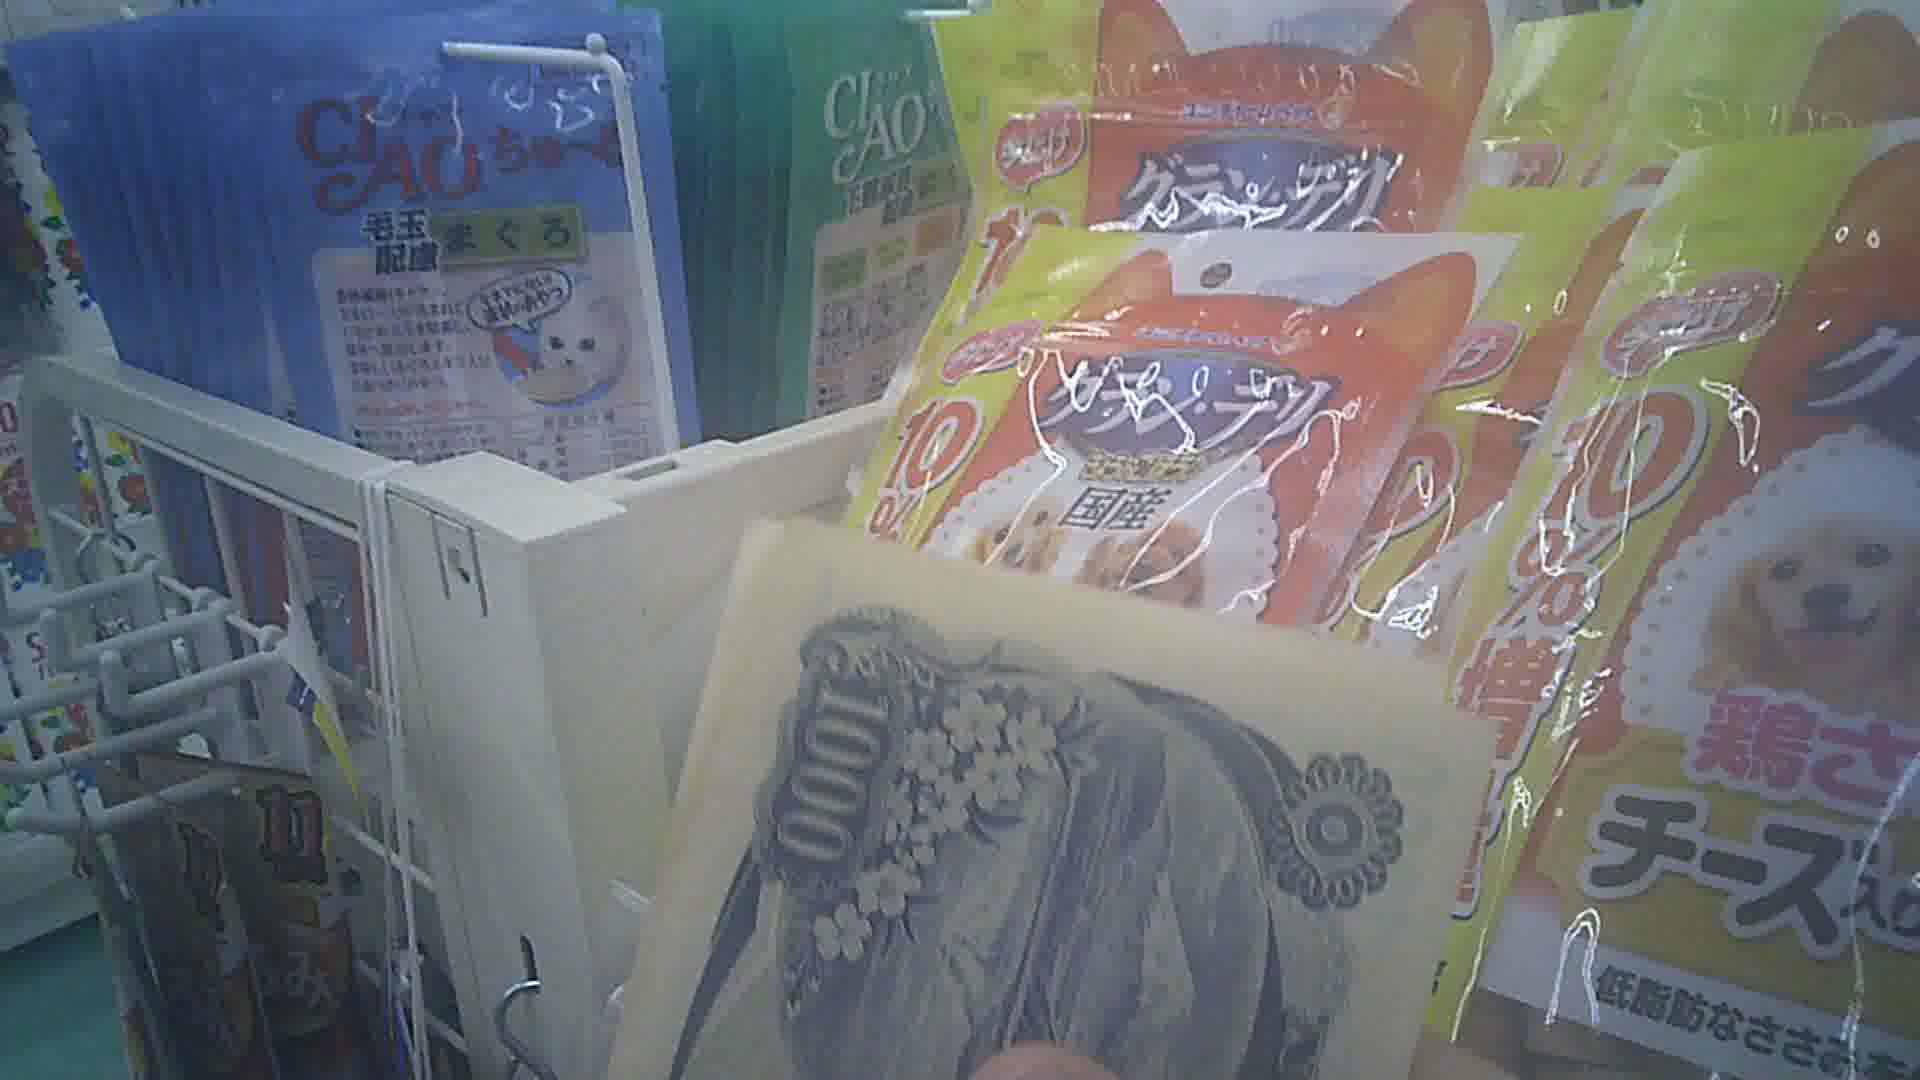1,000 Yen: (659, 537, 1437, 1079)
